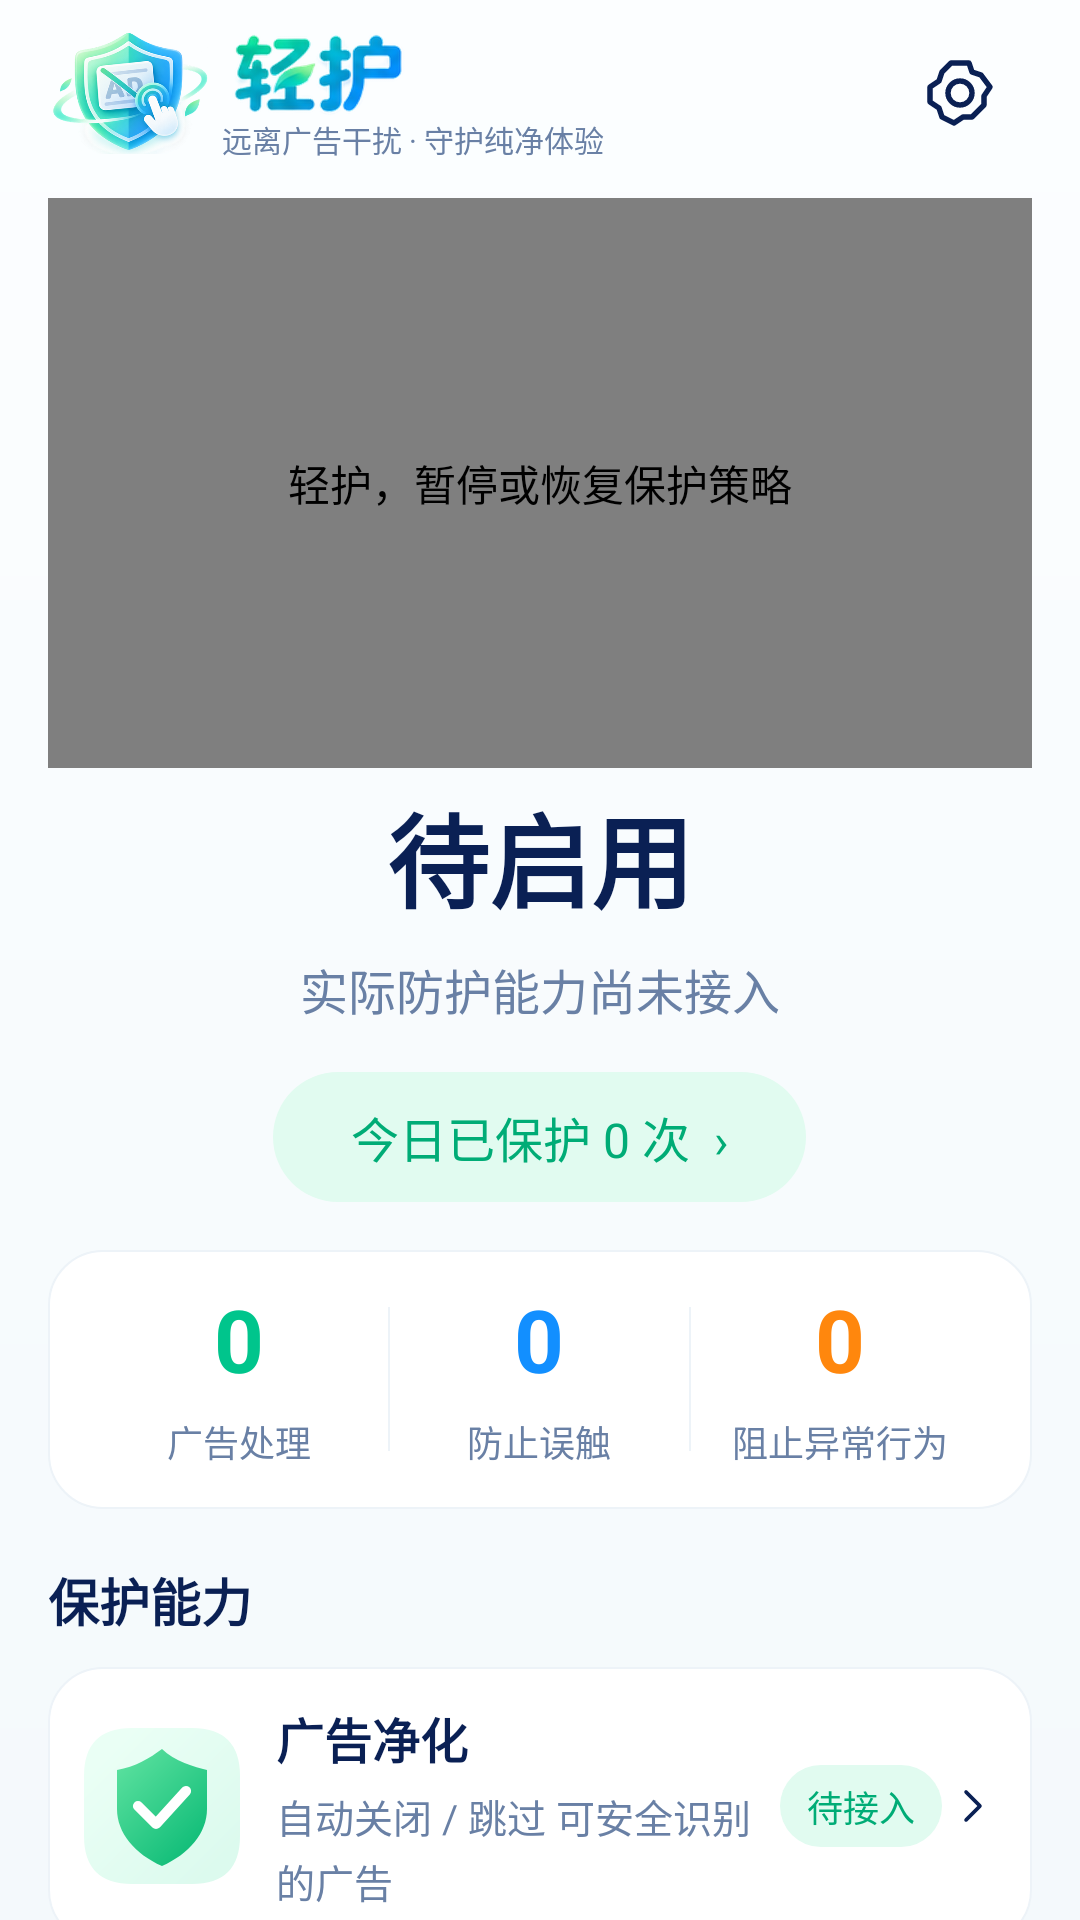

Point at icon controls on the screen. Image size 1080*1920, points as point (x, y).
chevron: point (973, 1806)
设置: point (960, 93)
